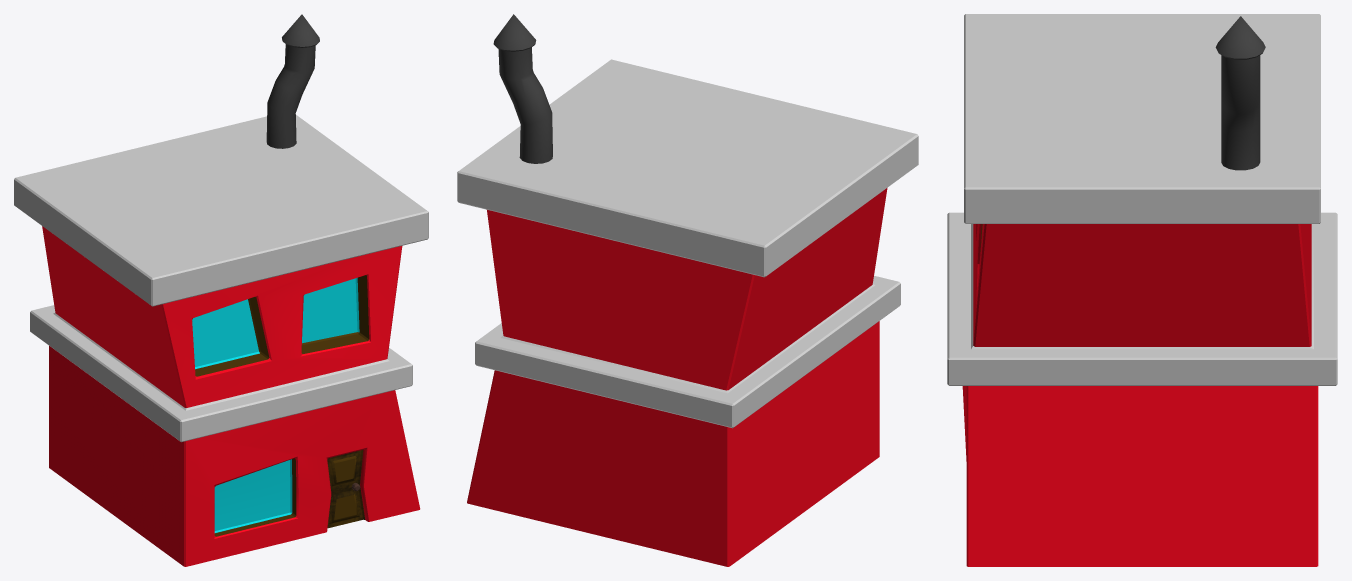
Rendered from PredioPequeno-VermelhoLOD0.fbx.
3 views of the same model, side by side, from view 1: azimuth 30°, elevation 25°; view 2: azimuth 150°, elevation 25°; view 3: azimuth 270°, elevation 25° (orthographic). The views are drawn at different scales.
Visible parts, largest first — view 1: Predio2Andares; view 2: Predio2Andares; view 3: Predio2Andares.
Part boxes in pixels (x1,y1,x2,y2): Predio2Andares: (14, 14, 428, 566); Predio2Andares: (457, 14, 918, 566); Predio2Andares: (947, 14, 1337, 566).
Size of the model in its own units: 715 by 1035 by 675.
